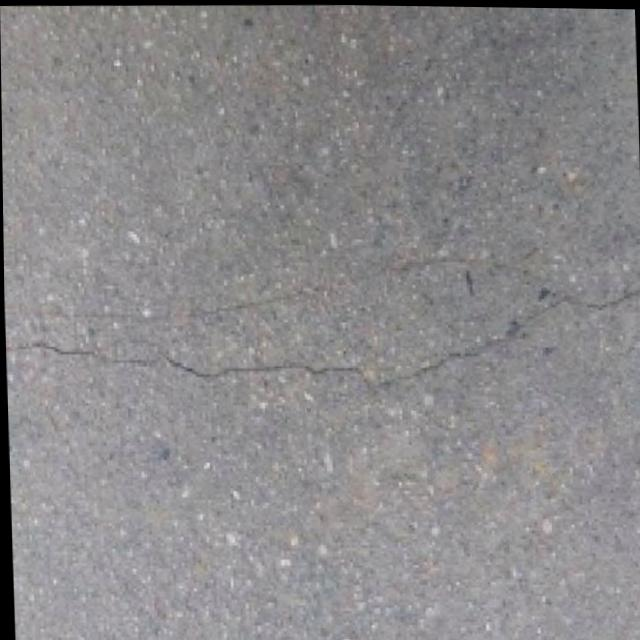Crack: (3, 244, 640, 428)
